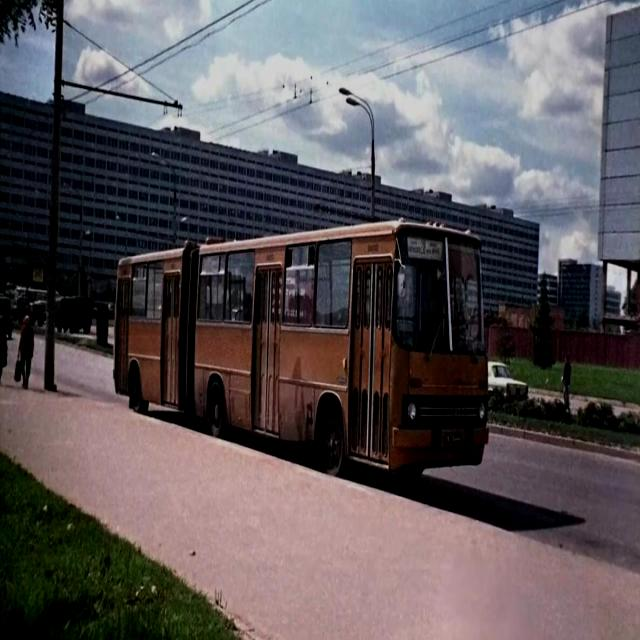bus: (110, 214, 495, 488)
